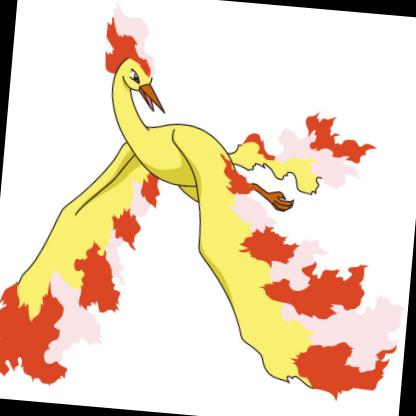Lavados: (0, 0, 413, 369)
